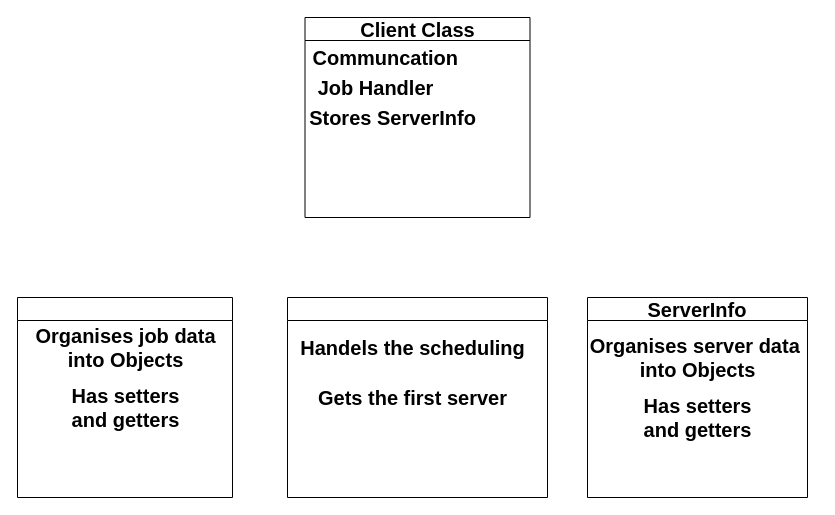
The diagram is 835 pixels wide and 515 high, and some of its shapes have lost their labels. Each missing label, with the box of its shape:
Job Class: (16, 296, 232, 498)
Schedule Class: (286, 296, 548, 498)
